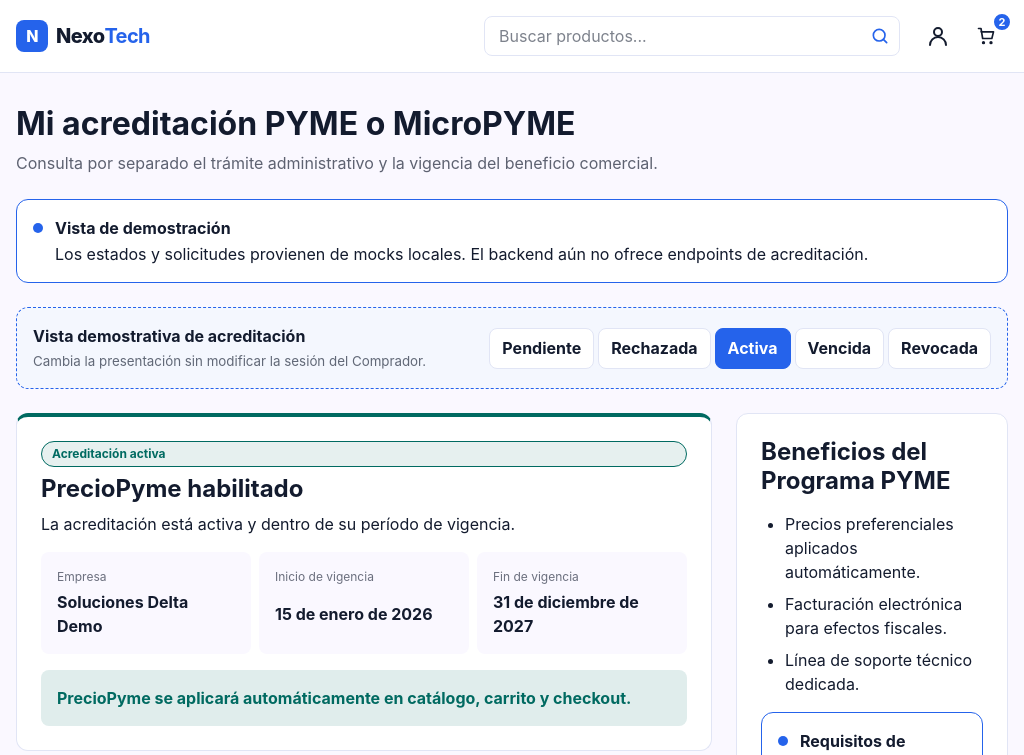
Test: AccreditationStatusPage › presenta la variante Rechazada desde sus tabs
The image size is (1024, 755).
Step 1. Click the button "Rechazada" → x=654, y=348, box [598, 328, 710, 369]
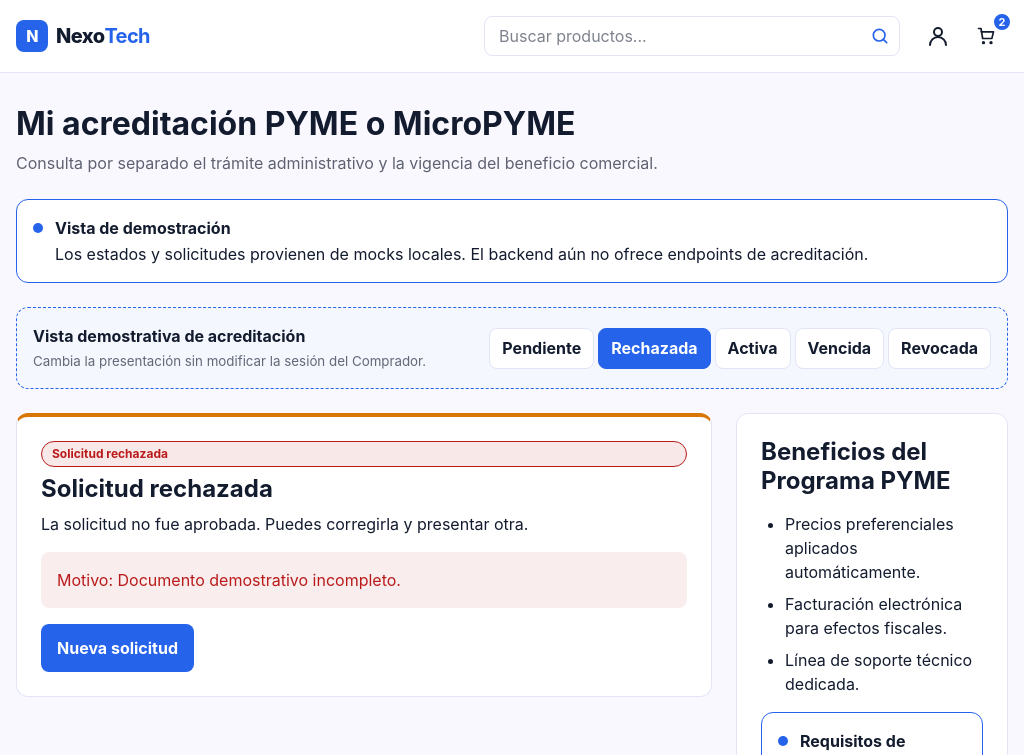
Expected: the heading "Solicitud rechazada" is shown, [41, 474, 273, 503]
